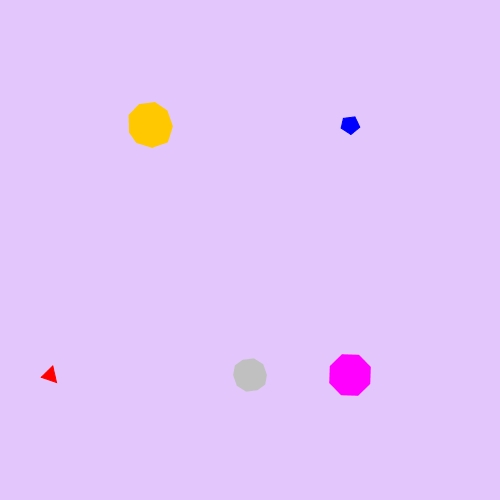decagon: (228, 355, 272, 395)
nonagon: (123, 99, 177, 151)
octagon: (324, 349, 376, 401)
pentagon: (336, 111, 364, 139)
triangle: (38, 362, 63, 388)
